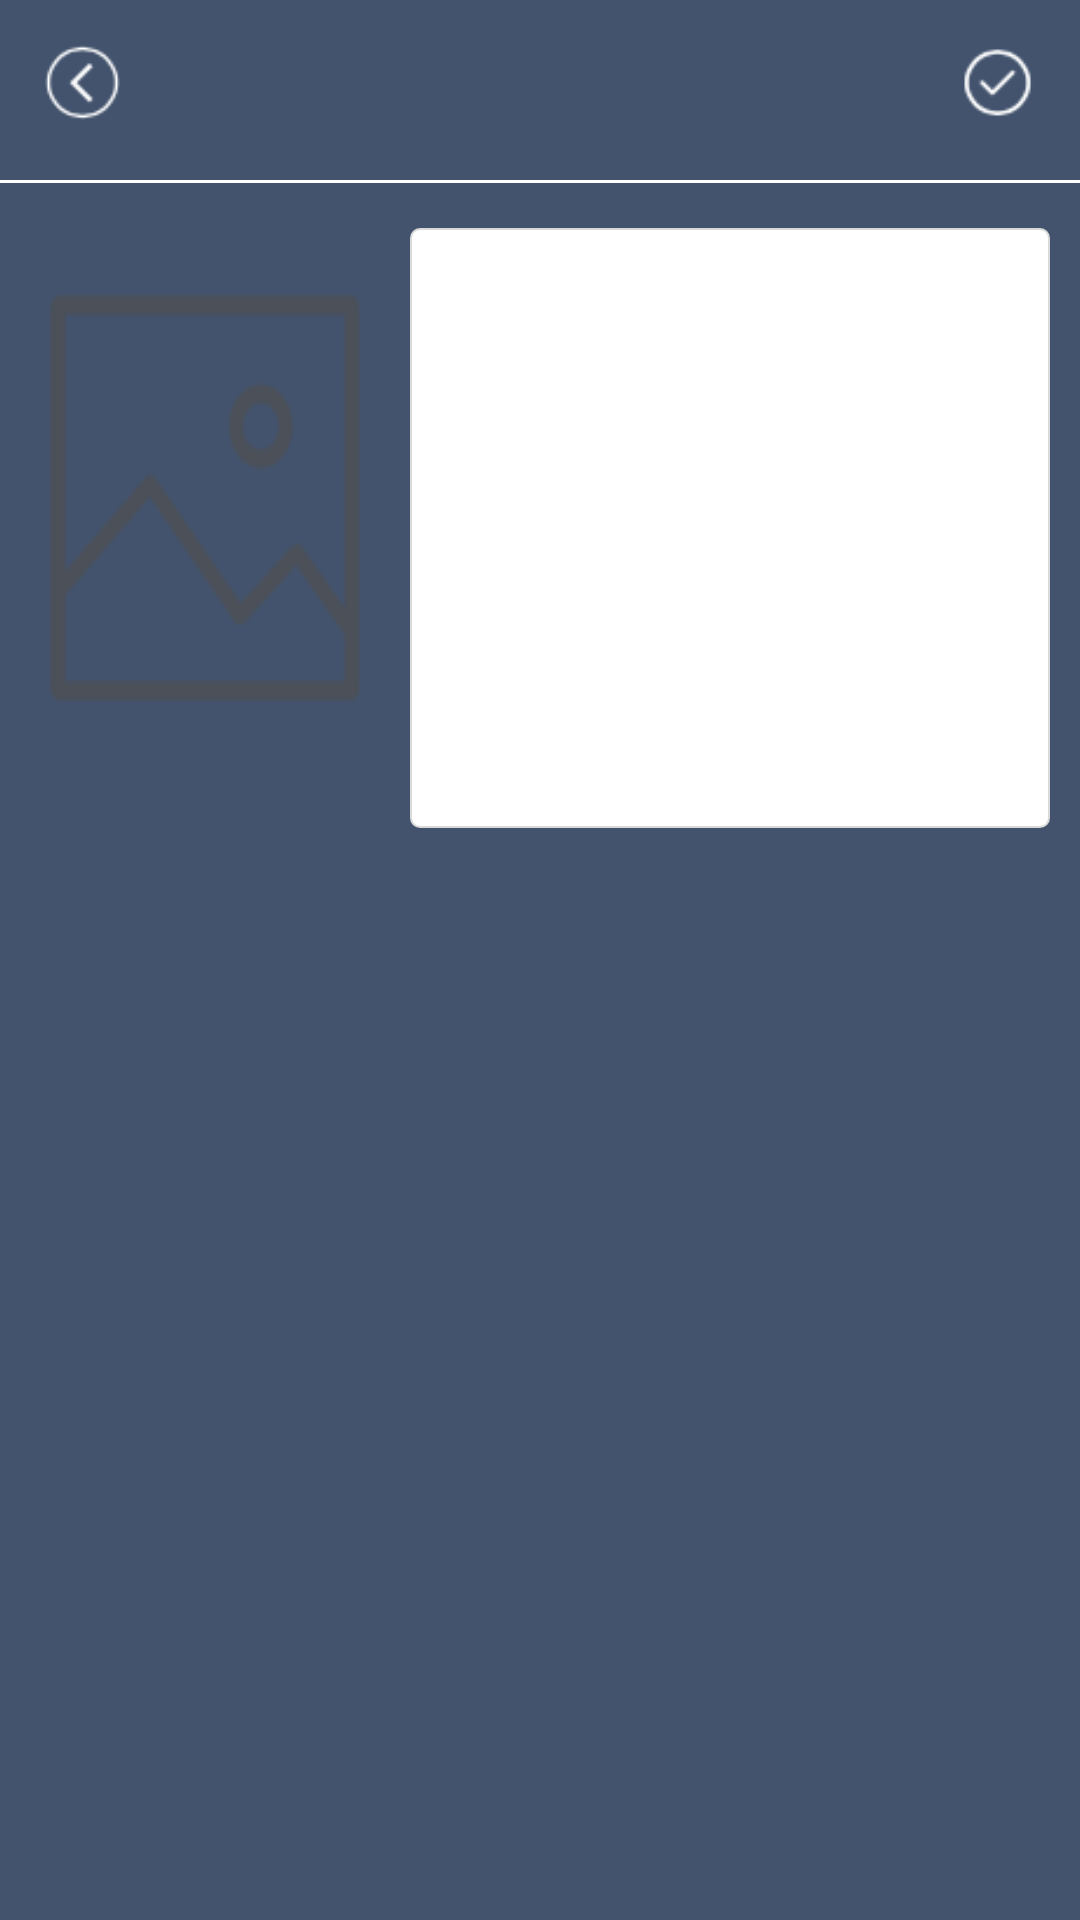

Screen size 1080px x 1920px. Icon name, then its center in pixels as (x=x, y=y):
return: (x=82, y=82)
